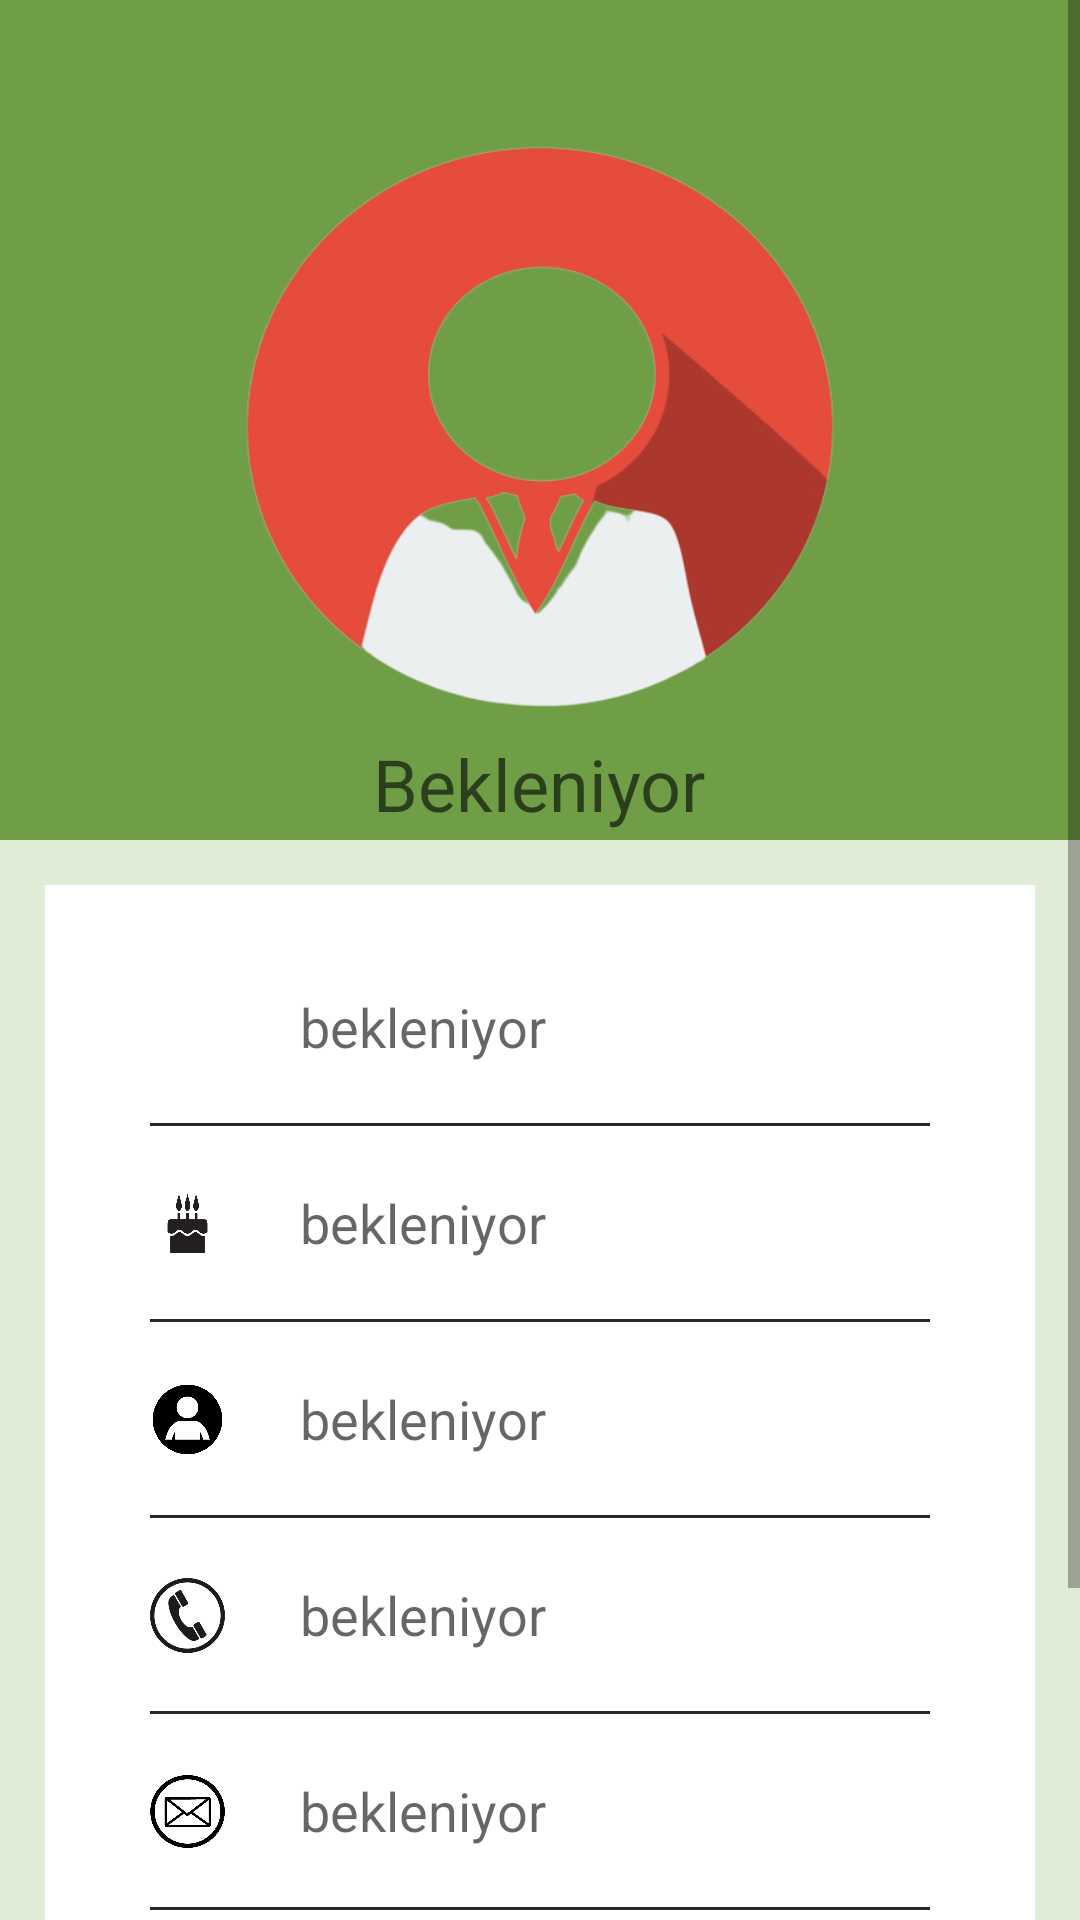

Named icons in this screenshot (1080x1920) and their bounding boxes, (x1, y1, x2, y2):
birth: (167, 1194, 208, 1253)
mail: (150, 1775, 225, 1848)
phone: (150, 1578, 225, 1653)
